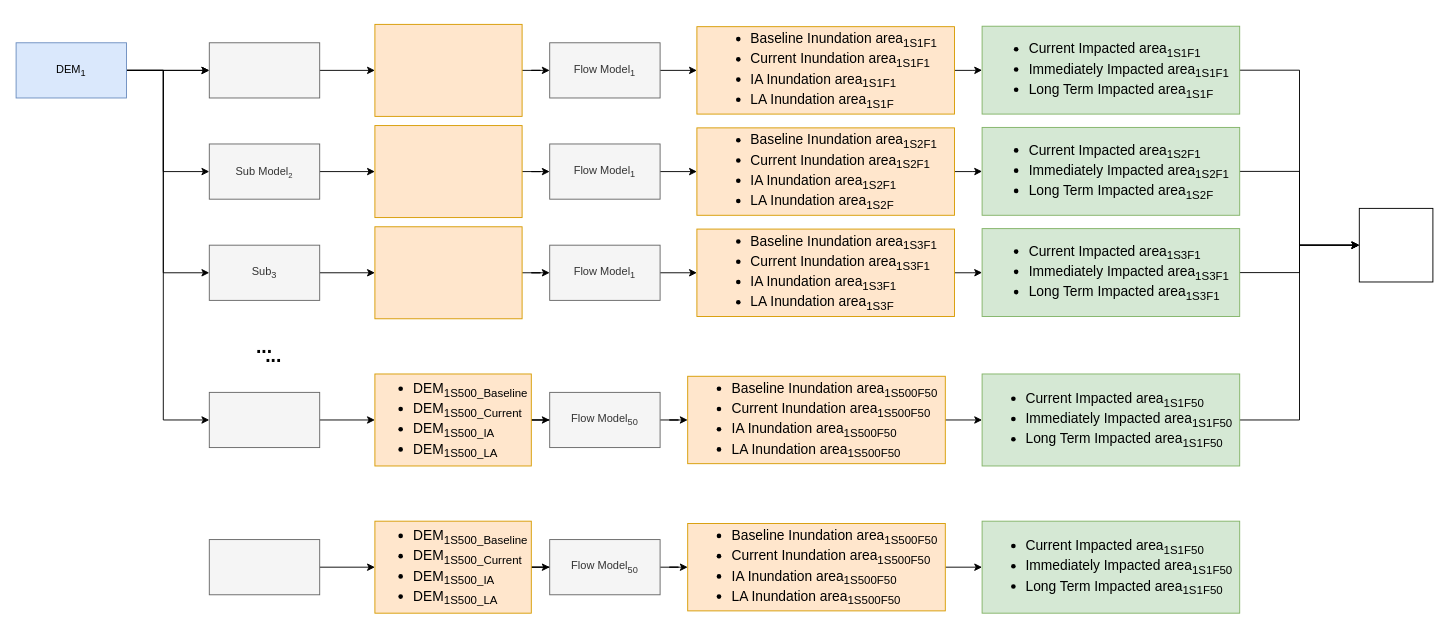
The diagram is 1449 pixels wide and 637 high, and some of its shapes have lost their labels. Each missing label, with the centre of its shape:
"DEM 1S1_Baseline DEM 1S1_Current DEM 1S1_IA DEM 1S1_LA" goes at pixel 448 69.
"DEM 1S2_Baseline DEM 1S2_Current DEM 1S2_IA DEM 1S2_LA" goes at pixel 448 171.
"DEM 1S3_Baseline DEM 1S3_Current DEM 1S3_IA DEM 1S3_LA" goes at pixel 448 272.
"Sub 500" goes at pixel 264 419.
"Sub Model 1" goes at pixel 264 70.
"Sub n00" goes at pixel 264 567.
